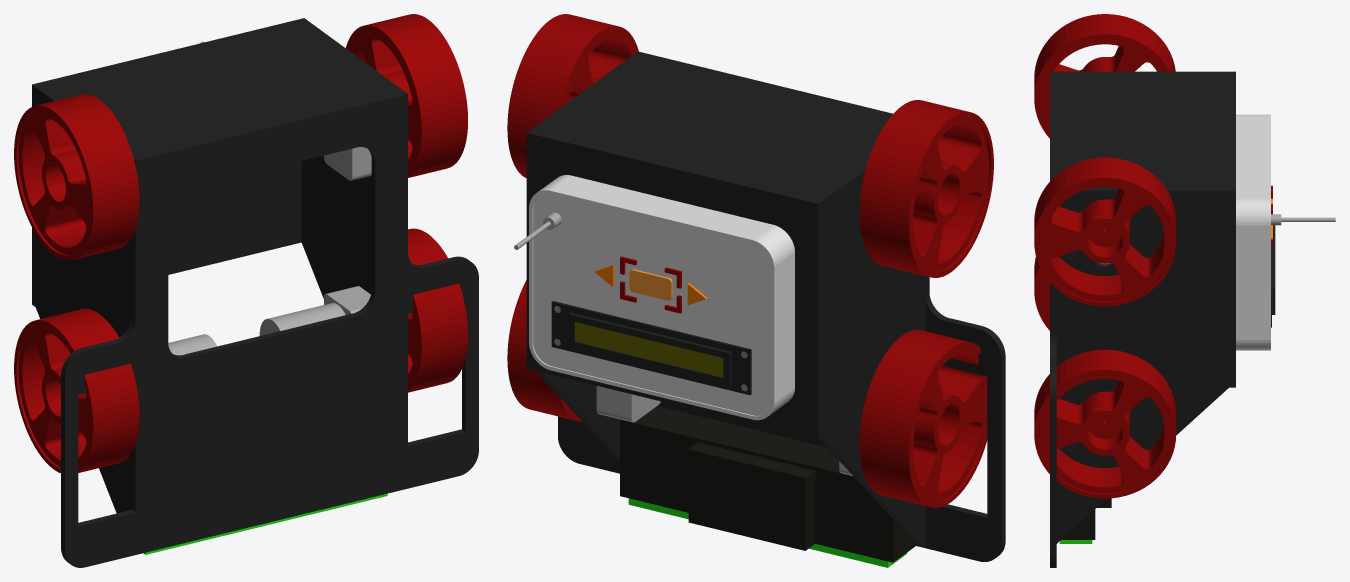
Rendered from Robot-Skp-6.FBX.
3 renders of one model, left to right at view 1: azimuth 30°, elevation 25°; view 2: azimuth 150°, elevation 25°; view 3: azimuth 270°, elevation 25°, orthographic. The views are drawn at different scales.
Visible parts, largest first — view 1: Body, Group4, Group27, Group6, Group31, Box003; view 2: Body, Group4, Group27, Box003, Boxw01, Group6, Group31; view 3: Body, Group6, Group31, Group4, Group27, Box003.
Boxes of the visible parts, left/top/right/bottom form: Body: left=32, top=18, right=478, bottom=567; Group4: left=14, top=94, right=139, bottom=260; Group27: left=14, top=308, right=139, bottom=473; Group6: left=346, top=14, right=467, bottom=177; Group31: left=408, top=228, right=467, bottom=392; Box003: left=143, top=493, right=387, bottom=554; Body: left=514, top=51, right=1005, bottom=561; Group4: left=859, top=100, right=993, bottom=277; Group27: left=859, top=330, right=987, bottom=507; Box003: left=620, top=406, right=915, bottom=567; Boxw01: left=688, top=442, right=815, bottom=550; Group6: left=507, top=14, right=638, bottom=178; Group31: left=507, top=280, right=582, bottom=421; Body: left=1050, top=71, right=1335, bottom=567; Group6: left=1034, top=157, right=1176, bottom=306; Group31: left=1034, top=349, right=1176, bottom=498; Group4: left=1034, top=14, right=1175, bottom=138; Group27: left=1034, top=257, right=1049, bottom=330; Box003: left=1059, top=509, right=1095, bottom=543.
Bounding box in the file's own units: 7.48 × 7.62 × 5.27.
